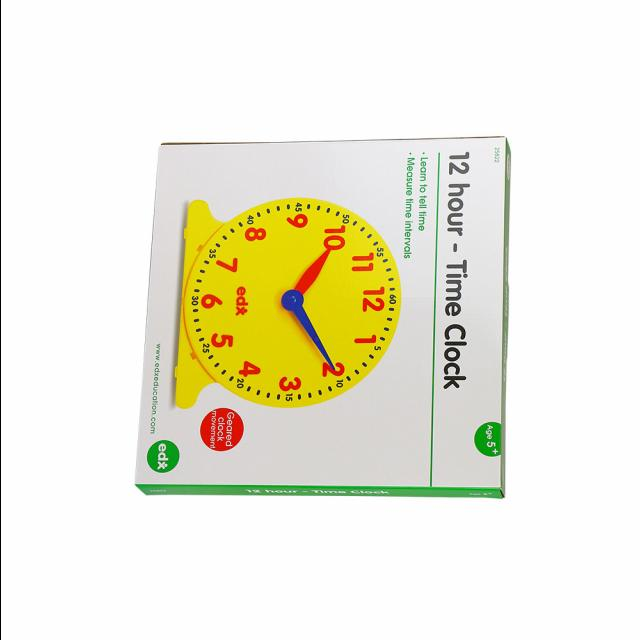clock: (104, 138, 510, 484)
